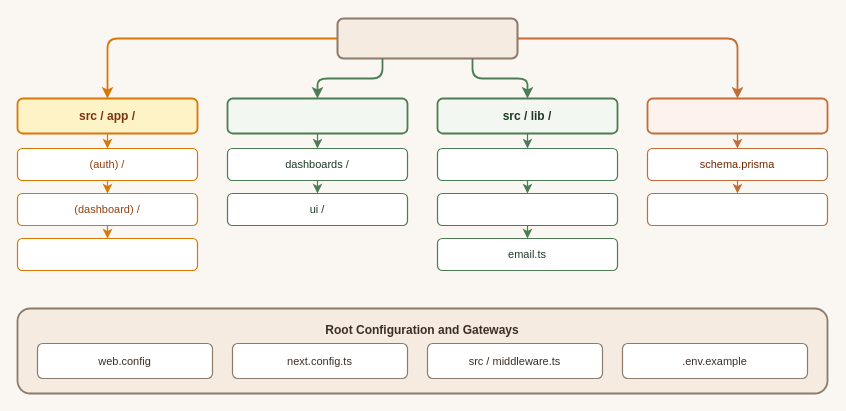
The diagram is 846 pixels wide and 411 high, and some of its shapes have lost their labels. Each missing label, with the centre of its shape:
"actions /" goes at (x=107, y=254).
"prisma /" goes at (x=737, y=115).
"prisma.ts" goes at (x=527, y=164).
"salarize-v2 /" goes at (x=427, y=38).
"security.ts" goes at (x=527, y=209).
"seed.ts" goes at (x=737, y=209).
"src / components /" goes at (x=317, y=115).
